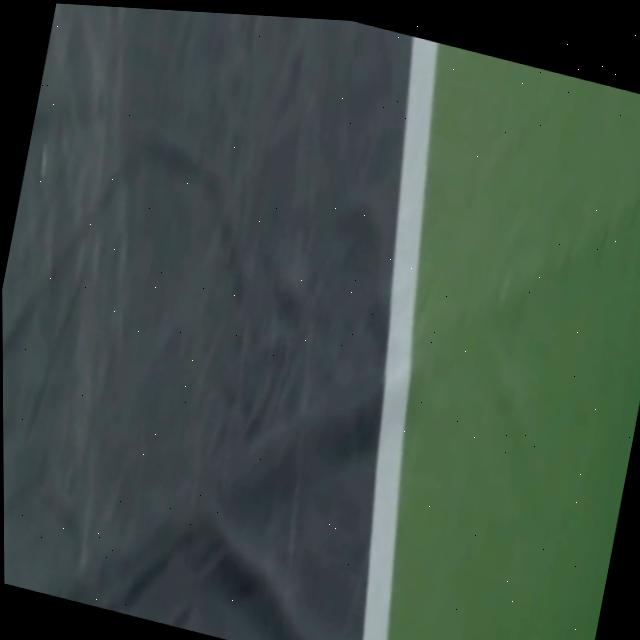right: (362, 36, 439, 640)
